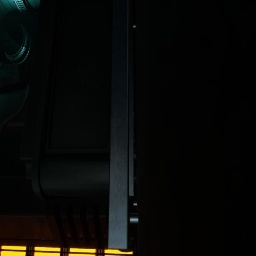EmergencyPhone ,: (133, 102, 135, 152)
